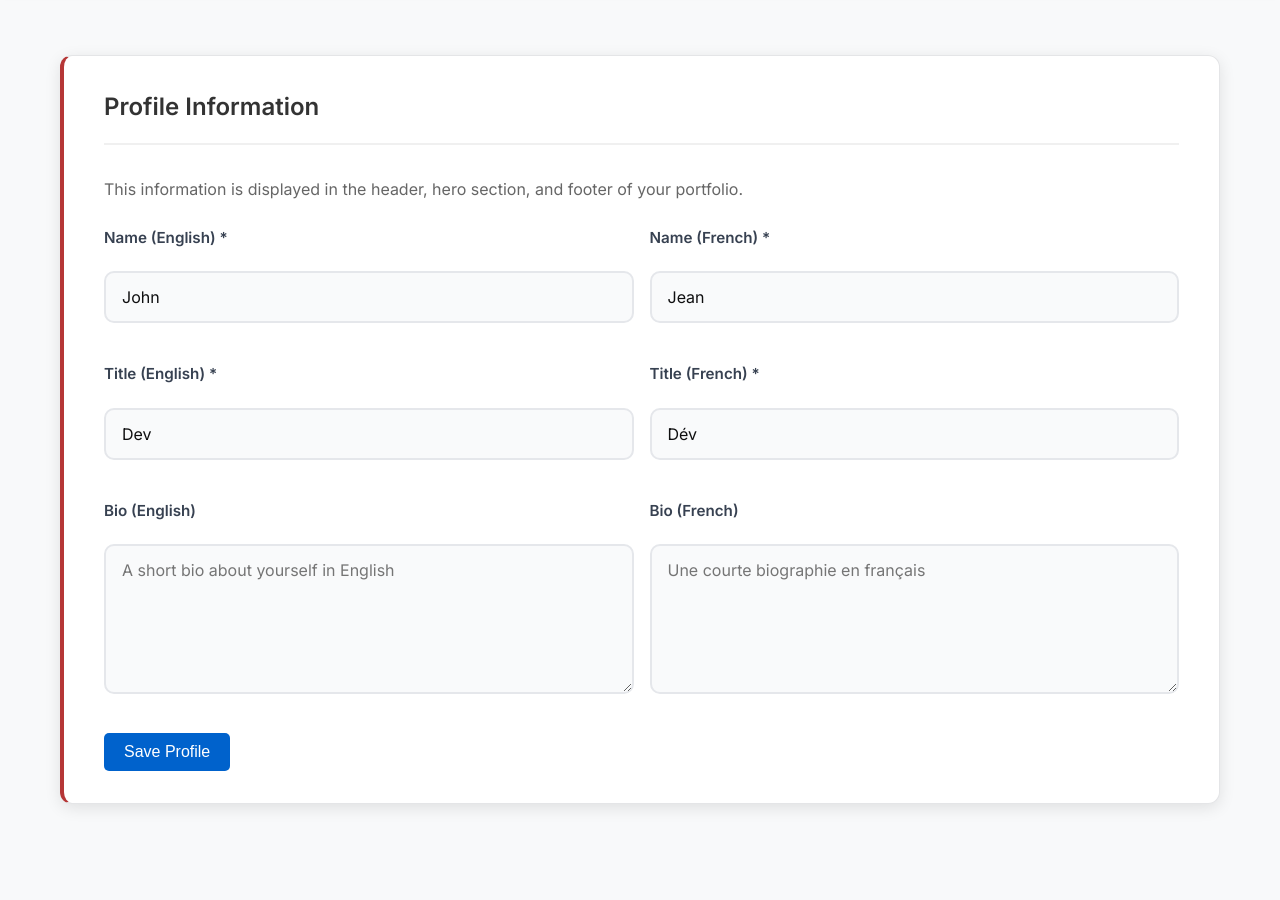
AdminProfile › handles form submission error
The width and height of the screenshot is (1280, 900).
(page scrolled)
Click the button "Save Profile".
click(167, 752)  # box [104,733,230,771]
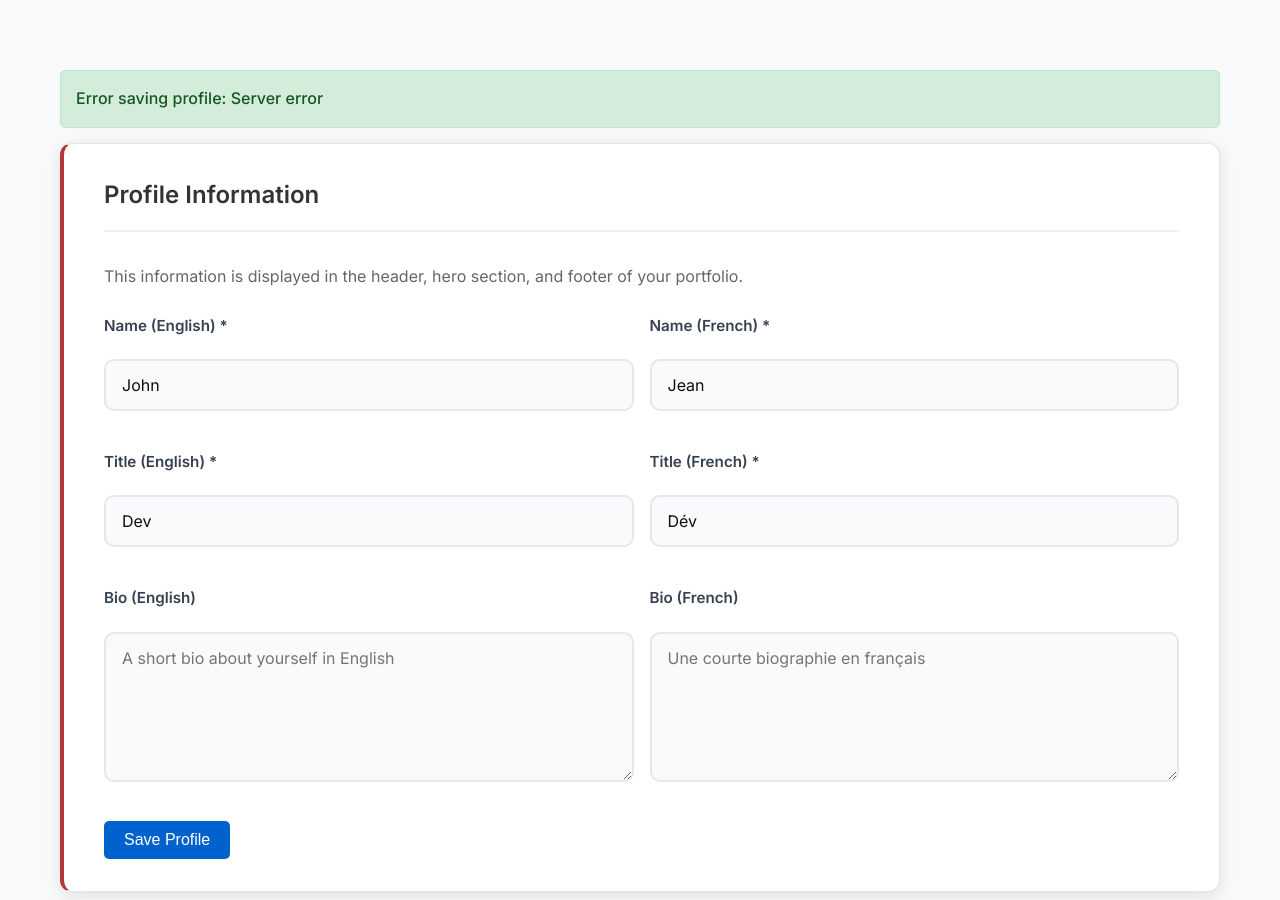
Expected: the text "Error saving profile: Server error" is shown, [60,70,1220,128]
